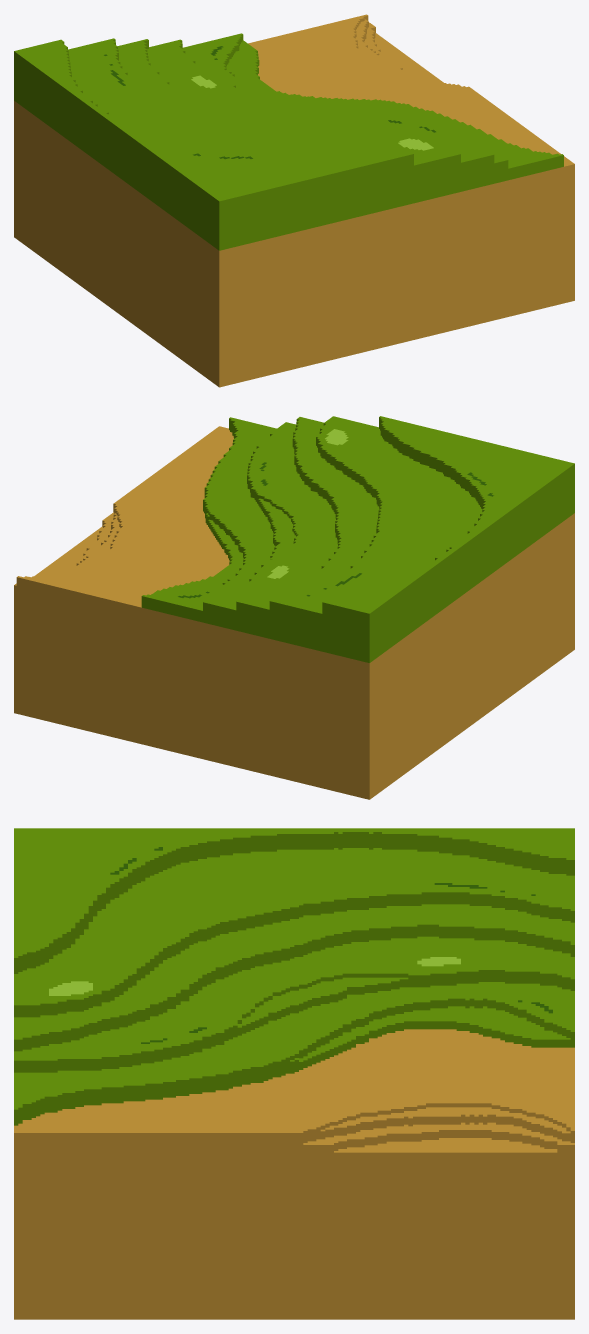
3 renders of one model, top to bottom at view 1: azimuth 30°, elevation 25°; view 2: azimuth 150°, elevation 25°; view 3: azimuth 270°, elevation 25°, orthographic. The views are drawn at different scales.
Visible parts, largest first — view 1: 12D; view 2: 12D; view 3: 12D.
Boxes of the visible parts, x1,y1,x2,y2 form: 12D: (14,14,574,387); 12D: (14,416,574,799); 12D: (14,828,574,1319).
Size of the model in its own units: 12.8 by 6.4 by 12.8.
1 material, 1 textured.
